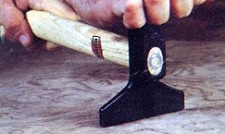hammer: (14, 3, 185, 124)
